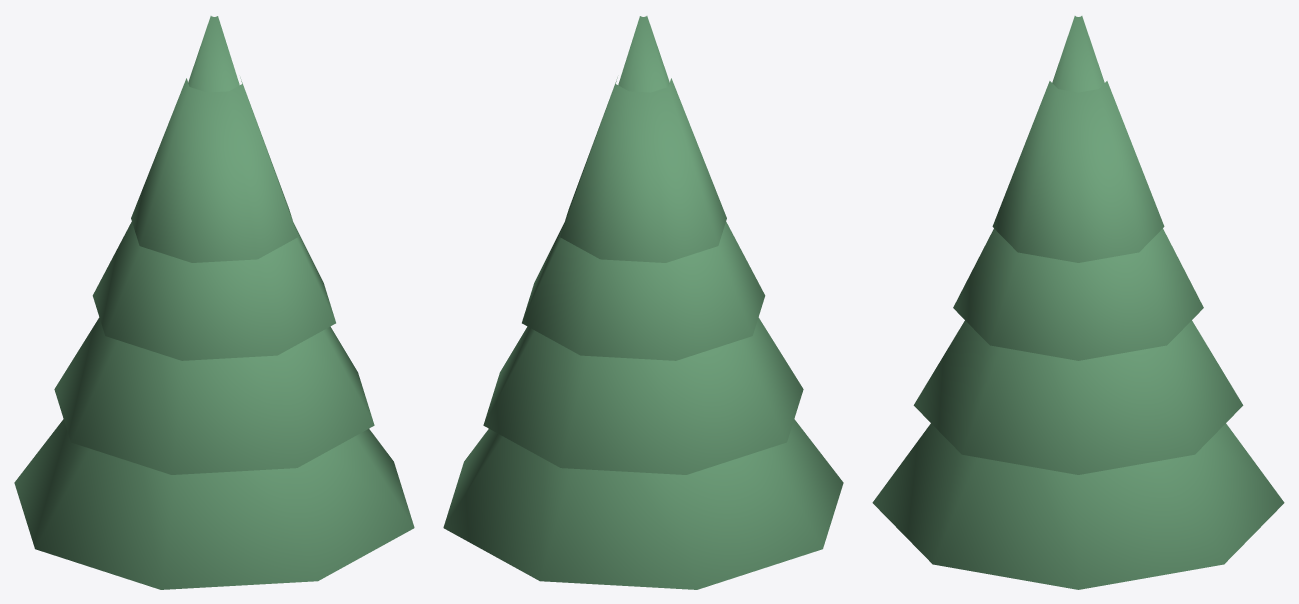
The picture shows the model from 3 angles, left to right: view 1: azimuth 30°, elevation 25°; view 2: azimuth 150°, elevation 25°; view 3: azimuth 270°, elevation 25°; orthographic projection.
Visible parts, largest first — view 1: pine; view 2: pine; view 3: pine.
Boxes of the visible parts, left/top/right/bottom form: pine: left=14, top=16, right=414, bottom=589; pine: left=443, top=16, right=843, bottom=589; pine: left=872, top=16, right=1284, bottom=589.
Bounding box in the file's own units: 2.3 × 3.45 × 2.3.
